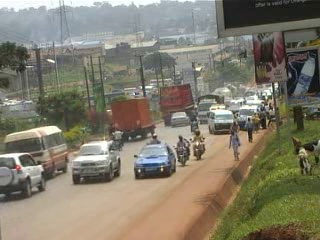Car: (69, 138, 124, 184), (0, 149, 50, 198), (131, 144, 178, 184), (167, 110, 191, 128)
Motorcycle: (188, 129, 207, 162), (173, 135, 193, 166), (110, 124, 126, 151), (188, 113, 203, 135), (144, 129, 163, 146)
